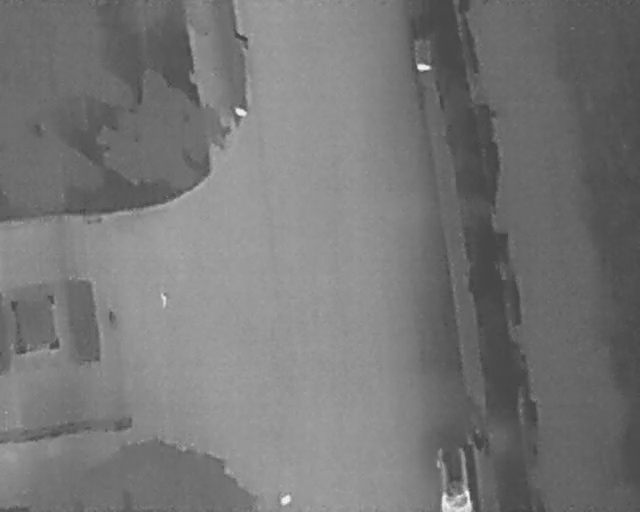Car: (437, 445, 473, 512)
